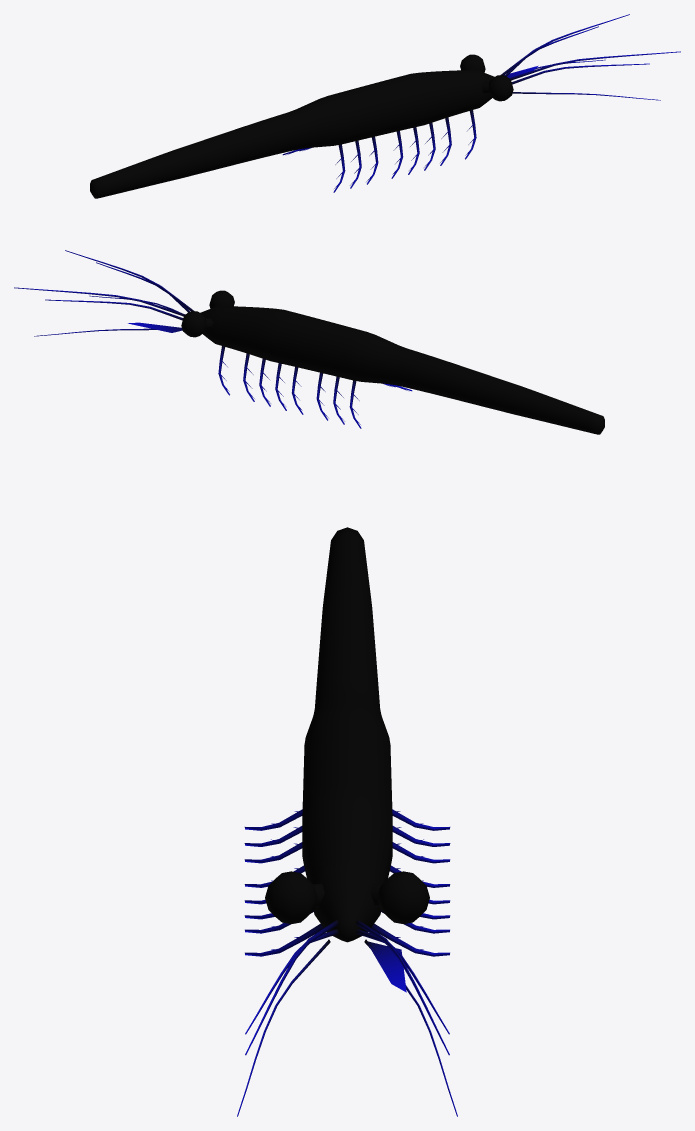
The model's file is micro_mysid.glb.
3 renders of one model, top to bottom at view 1: azimuth 30°, elevation 25°; view 2: azimuth 150°, elevation 25°; view 3: azimuth 270°, elevation 25°, orthographic. The views are drawn at different scales.
Parts seen in each view (by area): view 1: Body, Antennae, Legs, Eyes; view 2: Body, Antennae, Legs, Eyes; view 3: Body, Eyes, Legs, Antennae.
Boxes of the visible parts, x1,y1,x2,y2 form: Body: [90, 70, 494, 198]; Antennae: [500, 14, 680, 100]; Legs: [282, 109, 476, 192]; Eyes: [460, 54, 513, 101]; Body: [200, 306, 604, 434]; Antennae: [14, 250, 194, 336]; Legs: [218, 345, 412, 428]; Eyes: [181, 290, 234, 337]; Body: [302, 527, 392, 942]; Eyes: [265, 871, 429, 924]; Legs: [244, 809, 450, 956]; Antennae: [237, 919, 457, 1116].
Bounding box in the file's own units: 1.31 × 0.1478 × 0.2009.
Materials: 2 (1 with a texture image).
